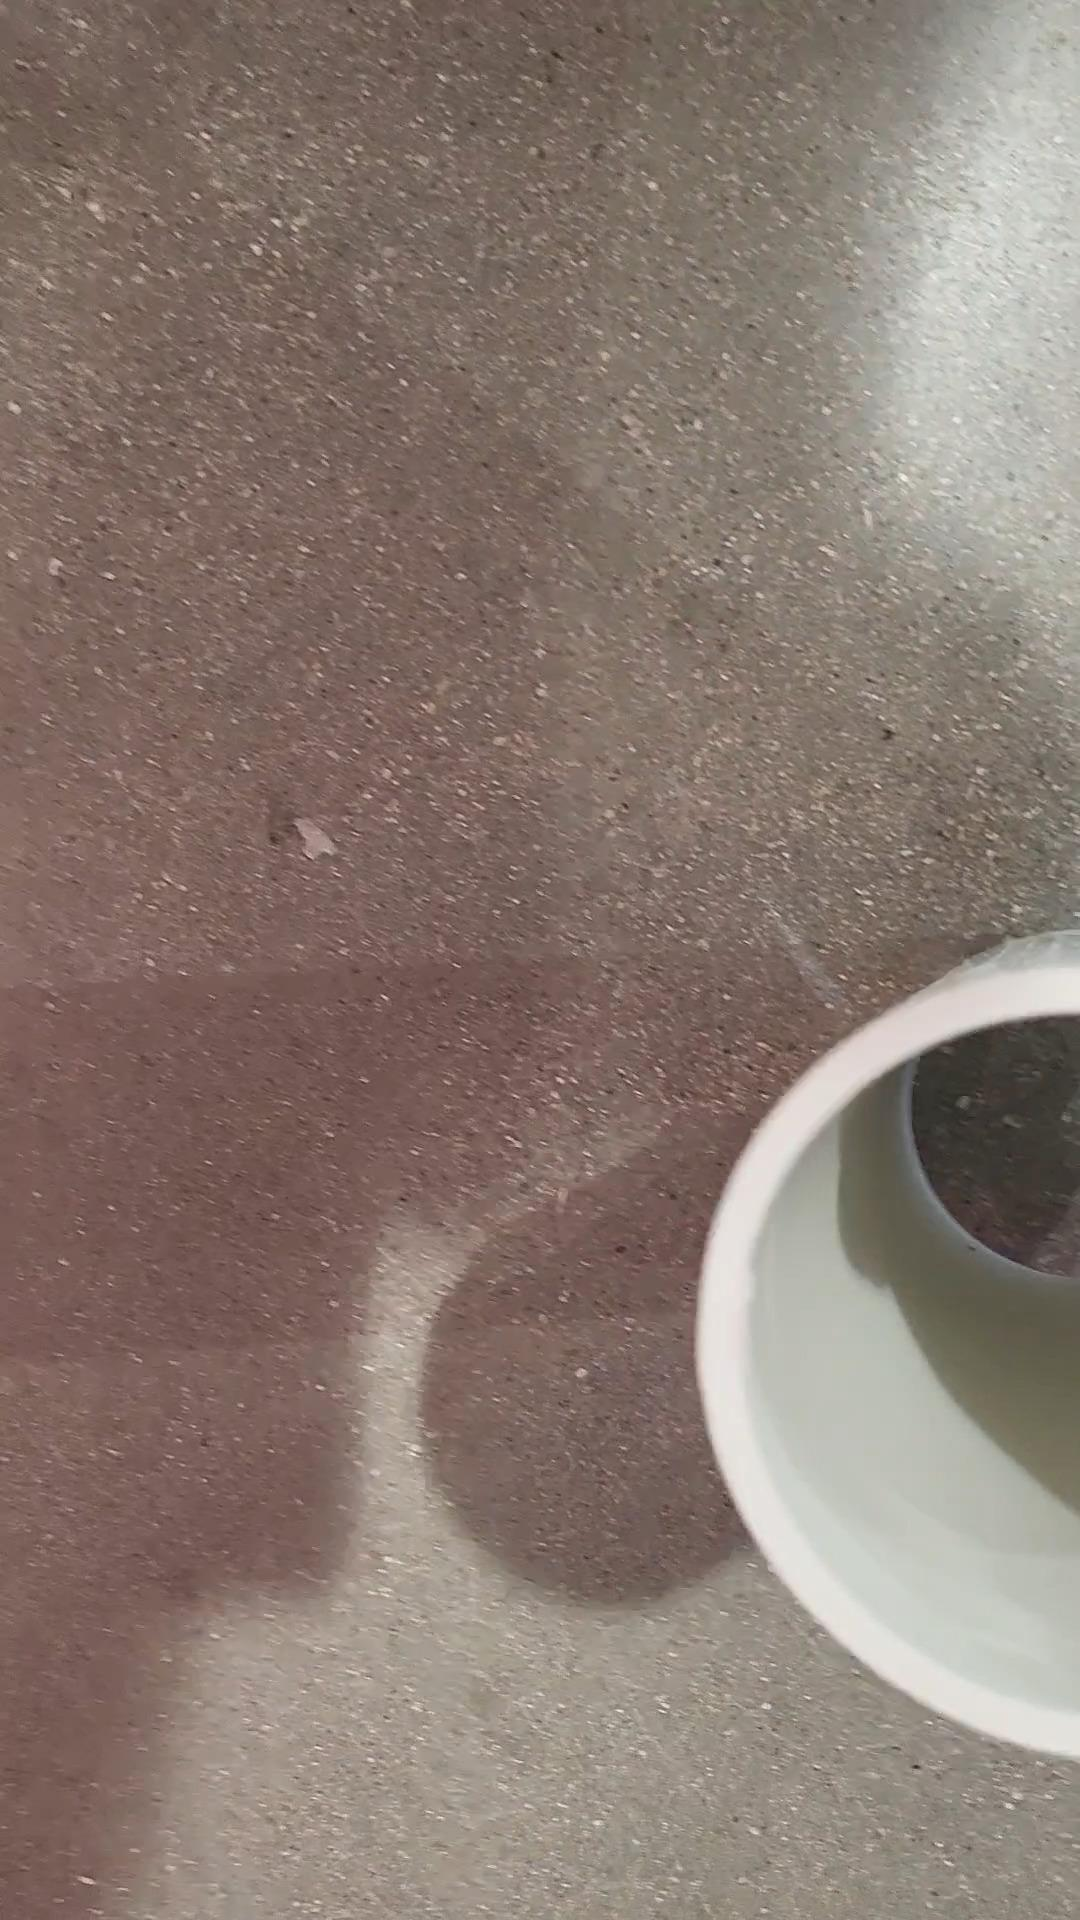coral: (687, 927, 1080, 1763)
